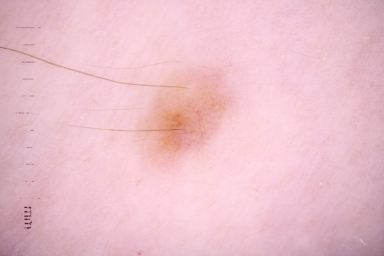melanoma: (140, 69, 229, 154)
